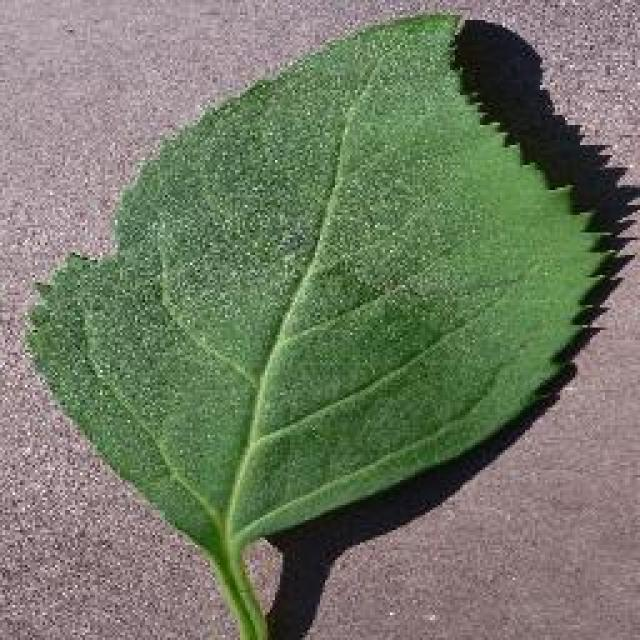Cherry___healthy: (50, 10, 498, 538)
